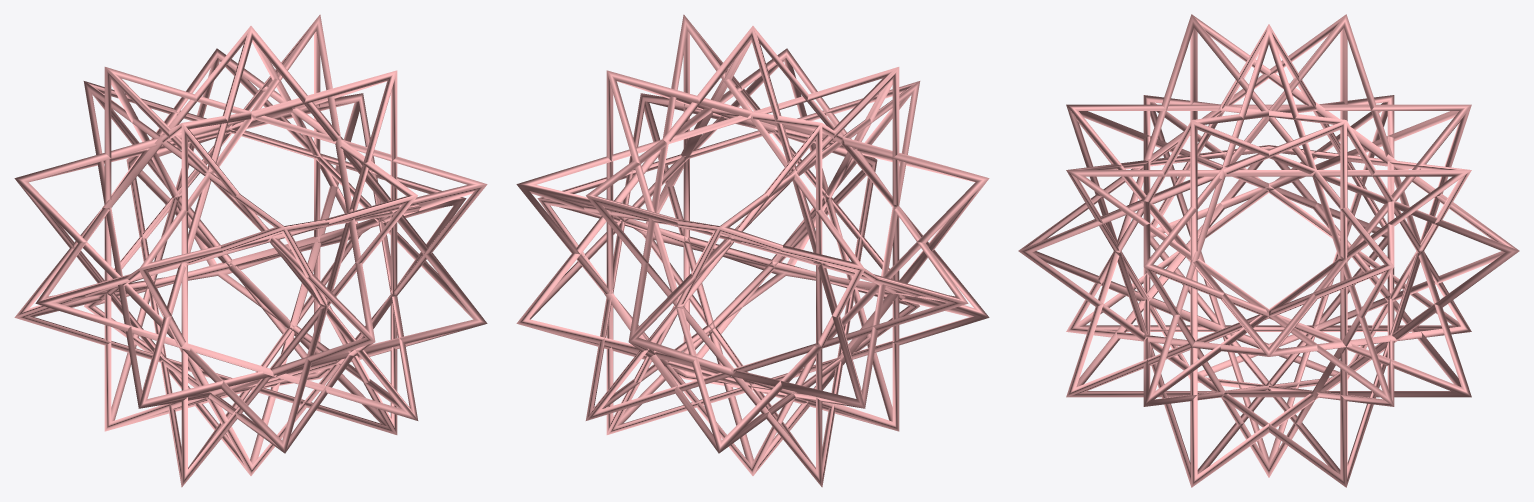
The model's file is GreatIcosidodecahedron1.glb.
3 renders of one model, left to right at view 1: azimuth 30°, elevation 25°; view 2: azimuth 150°, elevation 25°; view 3: azimuth 270°, elevation 25°, orthographic.
Parts seen in each view (by area): view 1: GreatIcosidodecahedron; view 2: GreatIcosidodecahedron; view 3: GreatIcosidodecahedron.
Part boxes in pixels (x1=…): GreatIcosidodecahedron: x1=14, y1=14, x2=487, y2=487; GreatIcosidodecahedron: x1=516, y1=14, x2=989, y2=487; GreatIcosidodecahedron: x1=1018, y1=14, x2=1519, y2=487.
Bounding box in the file's own units: 1.26 × 1.26 × 1.26.
